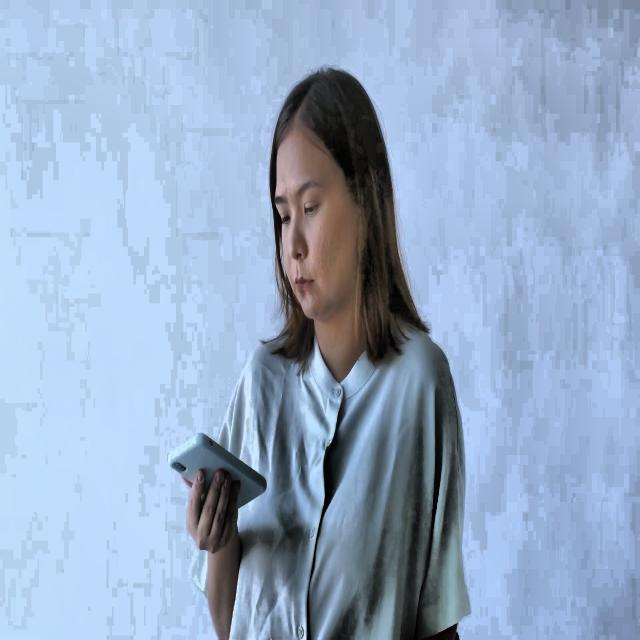Phone: (168, 430, 268, 510)
